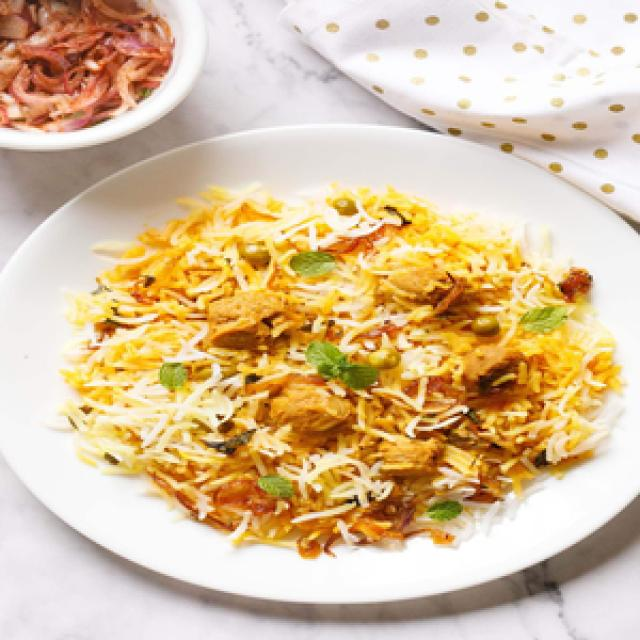chicken biriyani: (55, 173, 628, 553)
